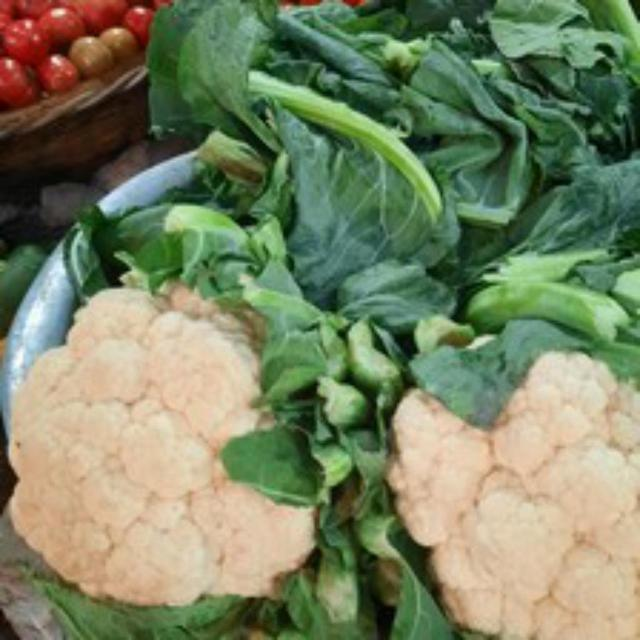cauliflower: (15, 254, 335, 604)
